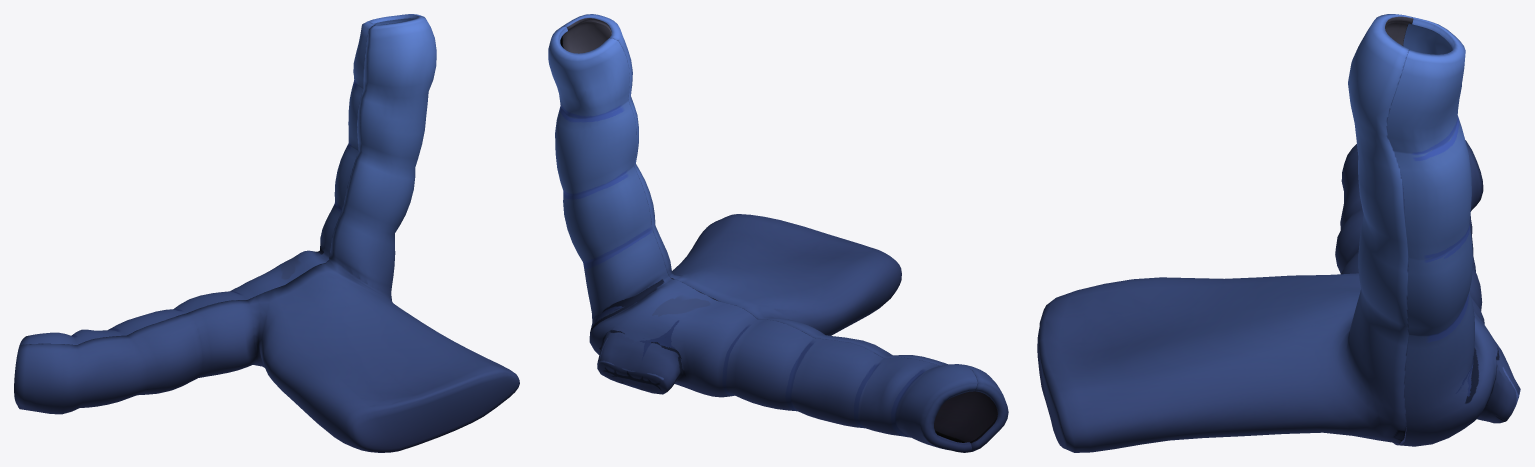
The model's file is jacket.fbx.
3 views of the same model, side by side, from view 1: azimuth 30°, elevation 25°; view 2: azimuth 150°, elevation 25°; view 3: azimuth 270°, elevation 25° (orthographic). The views are drawn at different scales.
Visible parts, largest first — view 1: Plane.001, Plane.003; view 2: Plane.003, Plane.001; view 3: Plane.001, Plane.003.
Part boxes in pixels (bbox=[...]): Plane.001: bbox=[14, 16, 519, 452]; Plane.003: bbox=[20, 14, 424, 345]; Plane.003: bbox=[548, 26, 977, 452]; Plane.001: bbox=[560, 14, 1008, 451]; Plane.001: bbox=[1037, 14, 1413, 452]; Plane.003: bbox=[1387, 17, 1520, 446].
Bounding box in the file's own units: 1114 × 798 × 759.
1 material, 1 textured.
